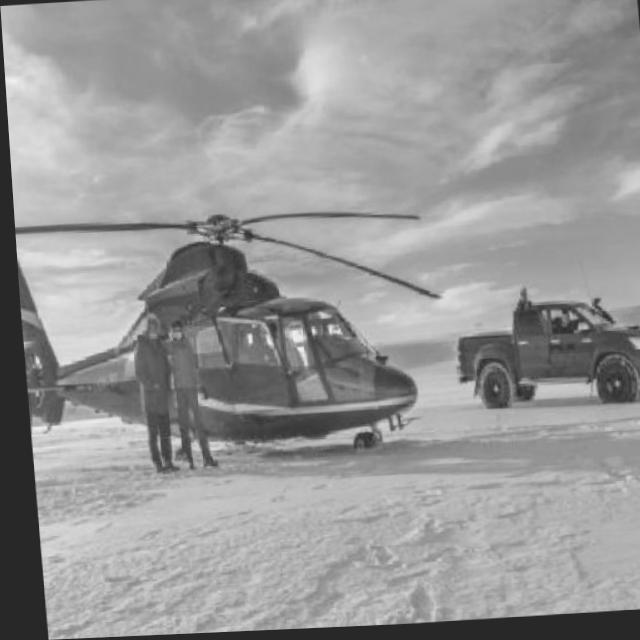helikopter: (11, 193, 453, 469)
